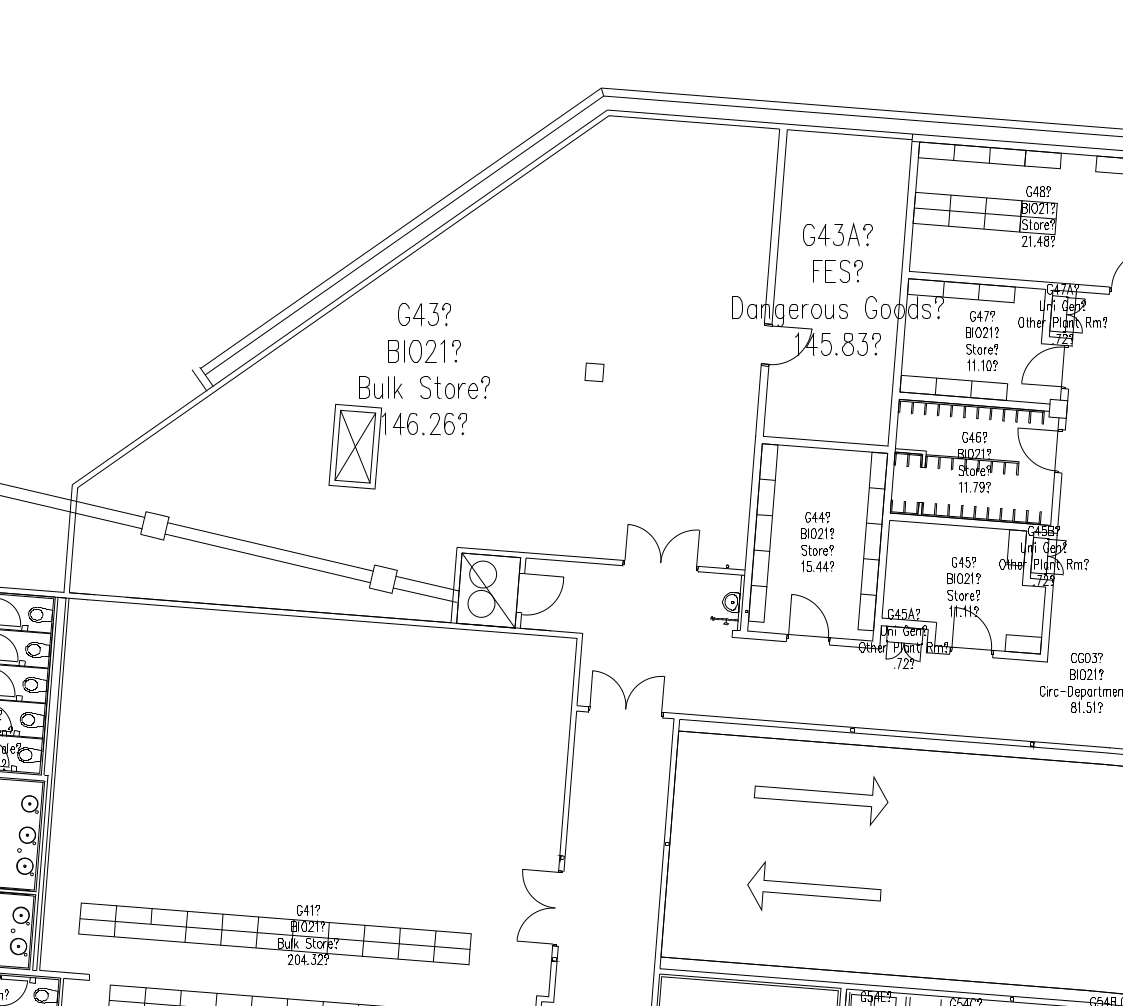door: (583, 657, 672, 727), (619, 513, 708, 583), (502, 858, 558, 948), (779, 590, 838, 644), (941, 604, 1000, 658), (763, 319, 822, 373), (1009, 340, 1068, 394), (1008, 423, 1067, 477), (513, 566, 568, 617)
